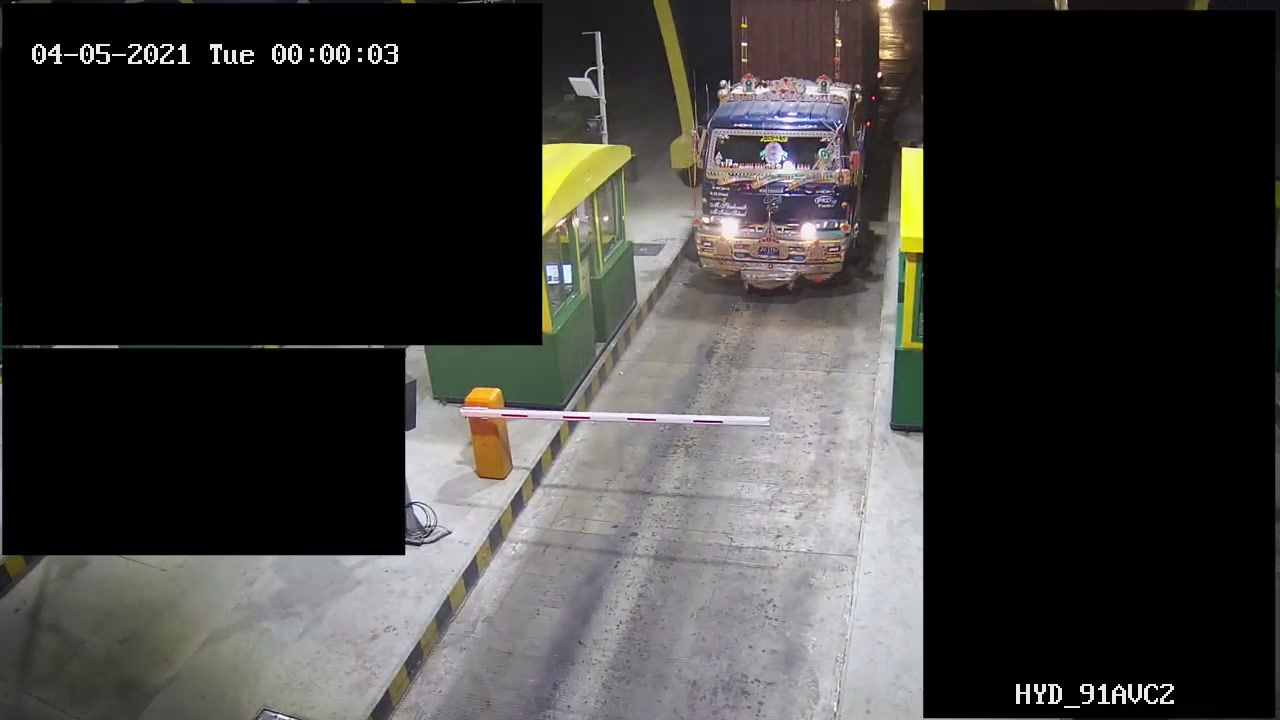F6: (690, 1, 883, 305)
